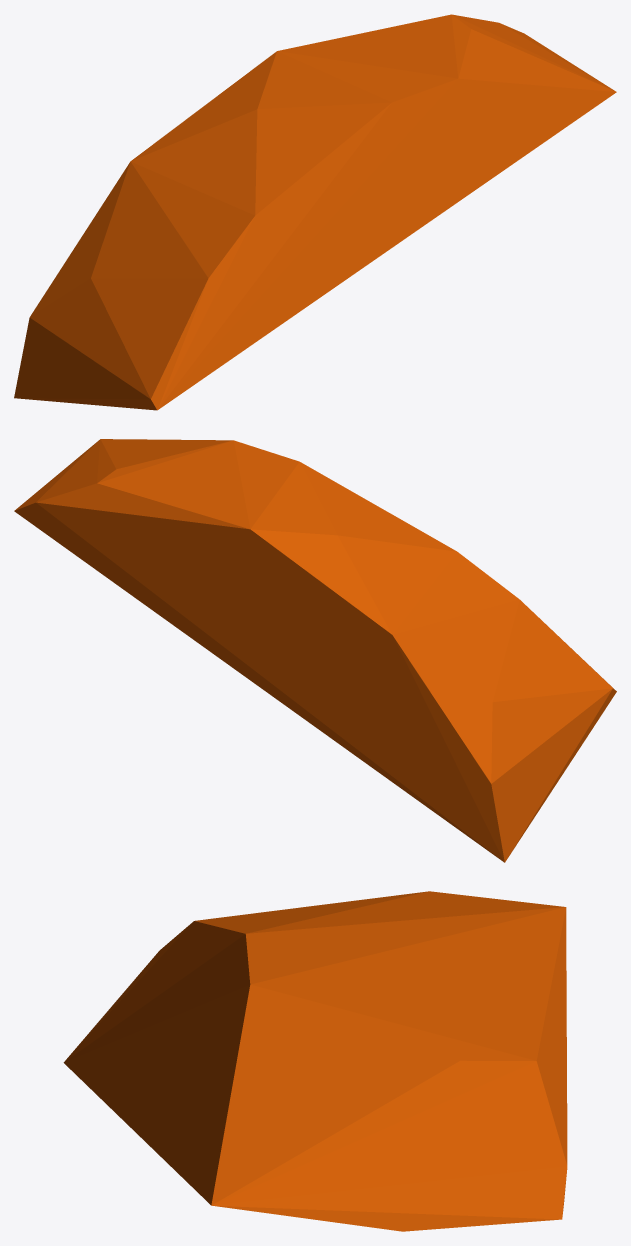
The model's file is arm-L1-mirror_convex_piece_002.obj.
The picture shows the model from 3 angles, top to bottom: view 1: azimuth 30°, elevation 25°; view 2: azimuth 150°, elevation 25°; view 3: azimuth 270°, elevation 25°; orthographic projection. The views are drawn at different scales.
Size of the model in its own units: 0.0519 by 0.0279 by 0.0228.
